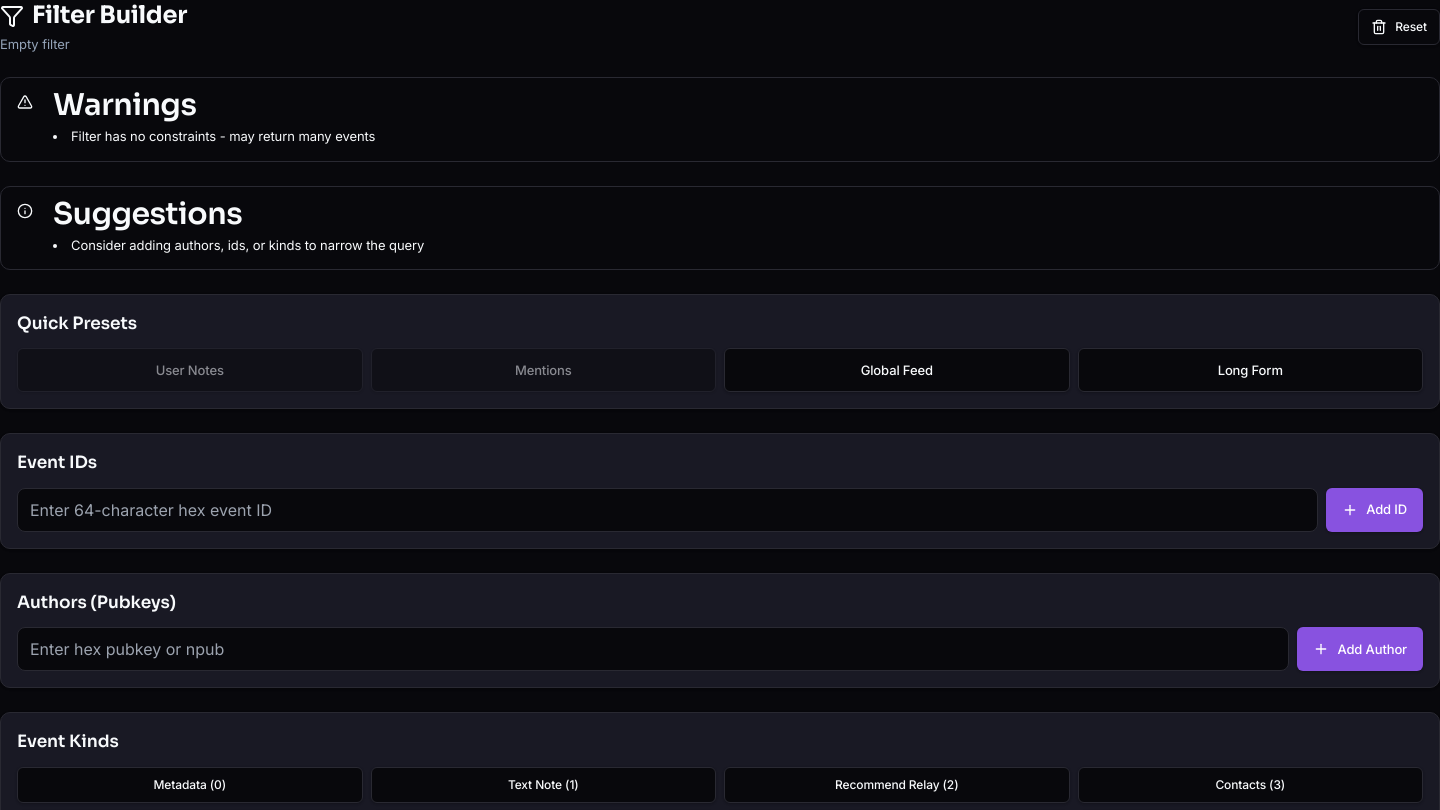
it: FilterBuilder › Validation › validates author pubkey format
In the field named "Authors input field": {"x": 653, "y": 649} [17,627,1290,671], type "invalid-pubkey"
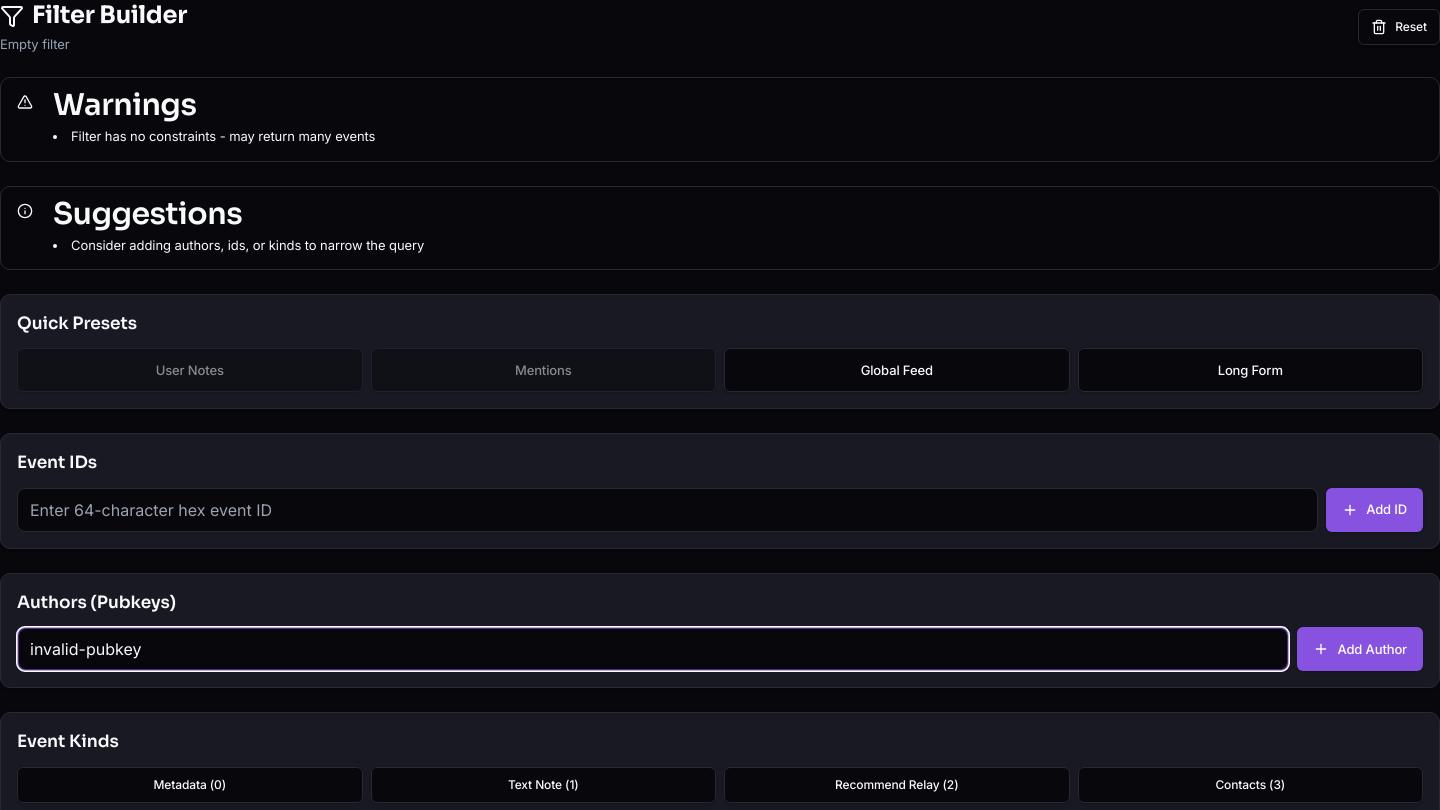
Validation runs on click of Add Author button
Click the button "Add Author": {"x": 1360, "y": 649} [1298,627,1423,671]
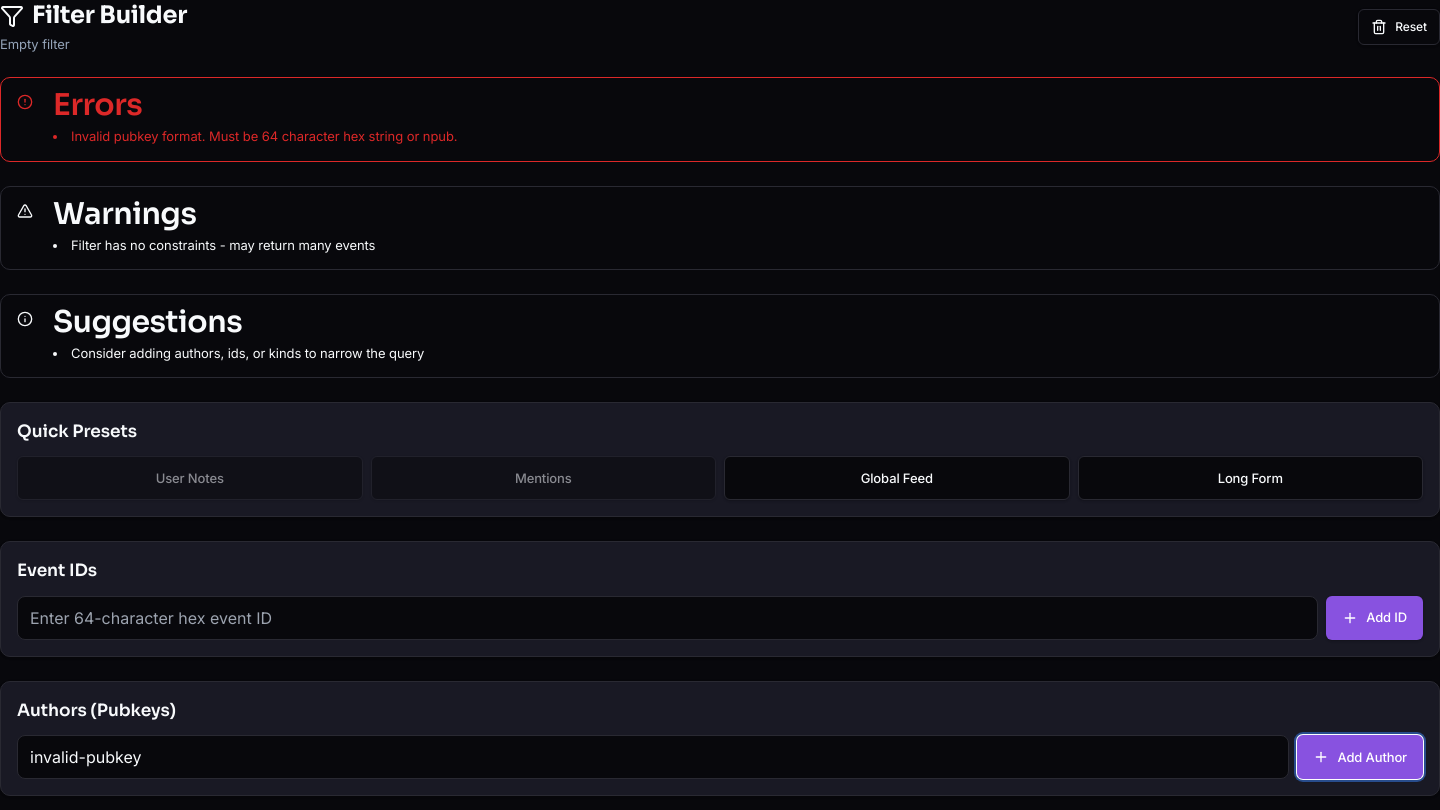
Expected: the list item "Invalid pubkey format" is shown, [71,128,457,144]
